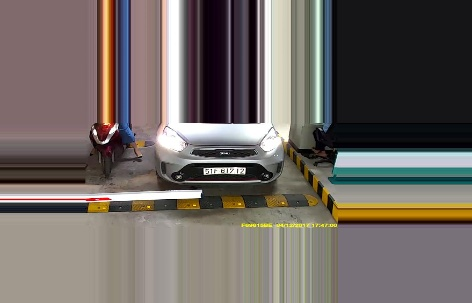plate: (202, 165, 247, 179)
